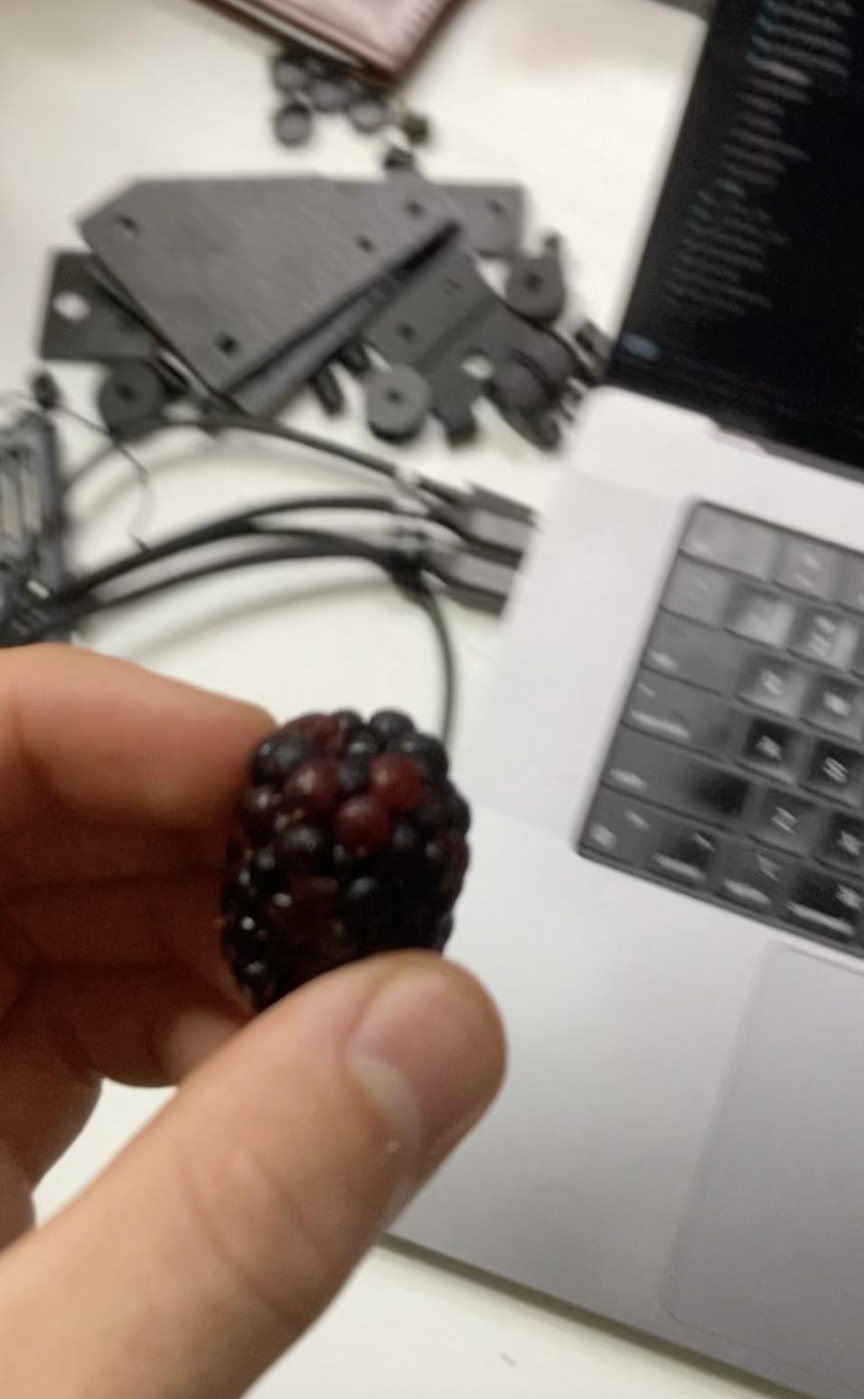berry: (221, 711, 468, 1014)
red drouplet: (368, 752, 424, 818), (335, 792, 393, 855), (285, 759, 337, 812)
